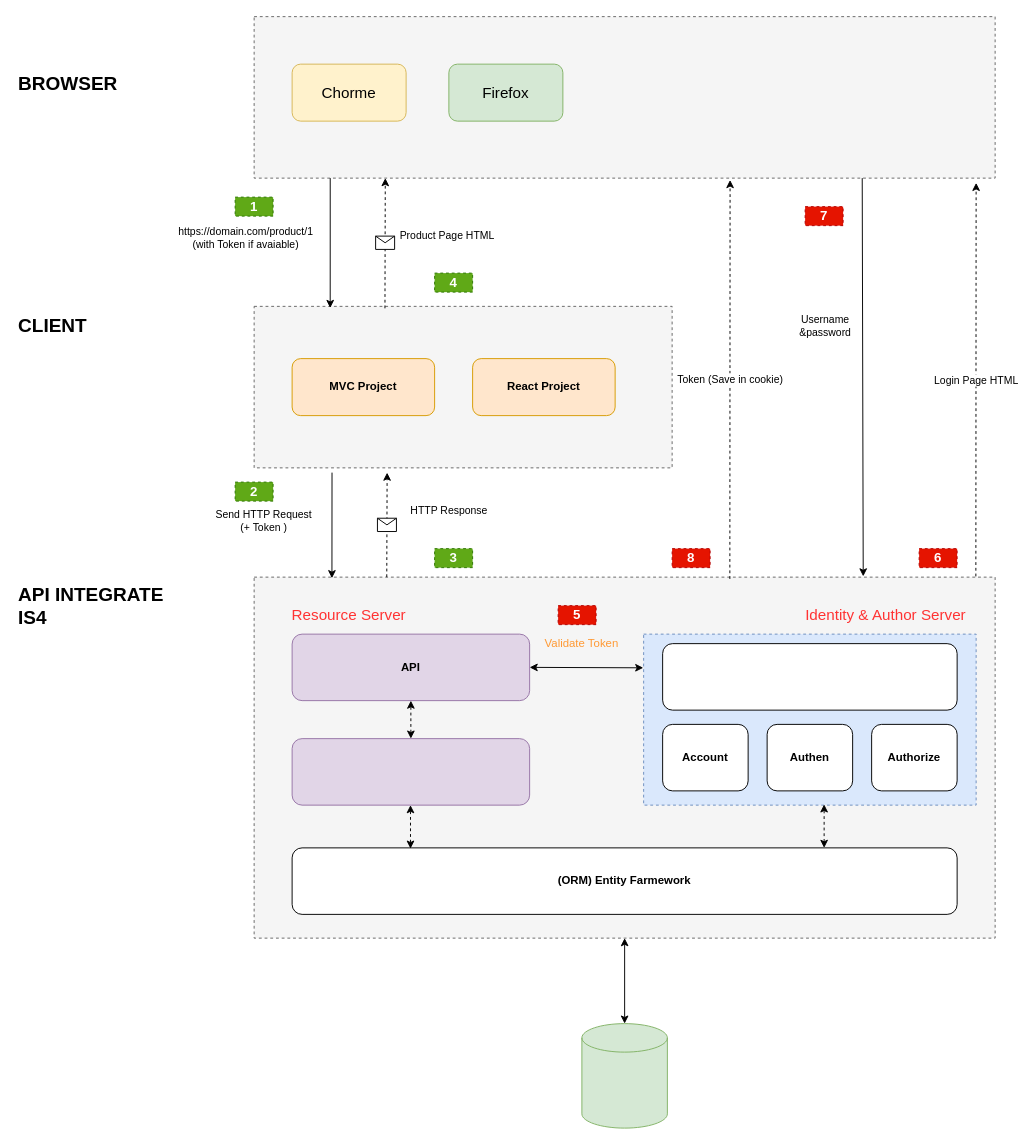
This 1035x1145 diagram has some shape labels left out. Each missing label, with the centre of its shape:
DB: pixel 624 1075
IdentityServer4: pixel 809 676
Service: pixel 410 771
